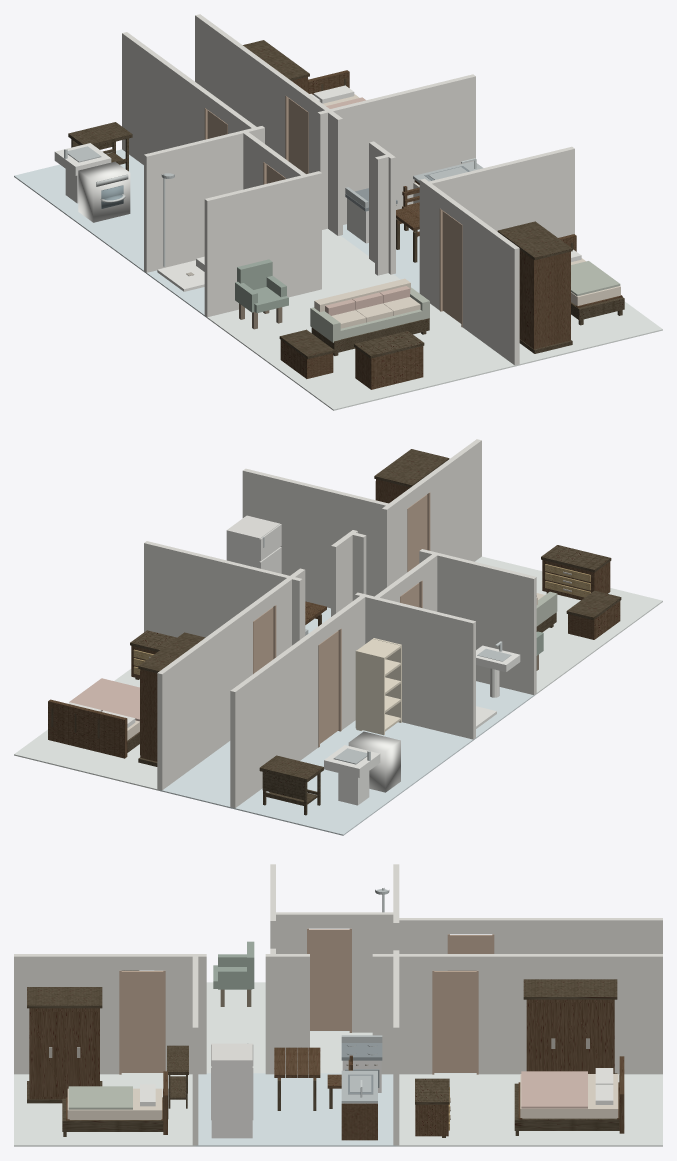
The picture shows the model from 3 angles, top to bottom: view 1: azimuth 30°, elevation 25°; view 2: azimuth 150°, elevation 25°; view 3: azimuth 270°, elevation 25°; orthographic projection.
Visible parts, largest first — view 1: H40_WALL_11, H40_WALL_06, H40_FLOOR_01_SALA_/_ENTRADA, H40_WALL_12, H40_WALL_02, H40_WALL_16, H40_WALL_00, H40_WALL_14, H40_FURN_01_wardrobe__06__corpo, H40_FLOOR_07_LAVANDERIA, H40_FLOOR_00_QUARTO_02, H40_FURN_18_washer__04__H08_FURN_16_washer_04 (+33 smaller); view 2: H40_WALL_14, H40_WALL_12, H40_WALL_02, H40_WALL_16, H40_WALL_11, H40_WALL_06, H40_FLOOR_07_LAVANDERIA, H40_WALL_00, H40_FLOOR_01_SALA_/_ENTRADA, H40_FLOOR_05_QUARTO_CASAL, H40_FURN_15_bed_double__07__cabeceira, H40_FLOOR_06_GALERIA_DE_SERVICO (+29 smaller); view 3: H40_WALL_14, H40_FLOOR_05_QUARTO_CASAL, H40_FLOOR_02_COZINHA_/_COPA, H40_WALL_00, H40_FLOOR_00_QUARTO_02, H40_WALL_16, H40_DOOR_00_LEAF, H40_DOOR_02_LEAF, H40_WALL_13, H40_DOOR_01_LEAF, H40_FURN_07_fridge__05__gabinete, H40_FLOOR_01_SALA_/_ENTRADA (+41 smaller).
Part boxes in pixels (x1=…): H40_WALL_11: x1=317, y1=74, x2=475, y2=229; H40_WALL_06: x1=204, y1=171, x2=321, y2=317; H40_FLOOR_01_SALA_/_ENTRADA: x1=206, y1=273, x2=517, y2=410; H40_WALL_12: x1=144, y1=126, x2=264, y2=272; H40_WALL_02: x1=426, y1=146, x2=574, y2=237; H40_WALL_16: x1=122, y1=32, x2=210, y2=164; H40_WALL_00: x1=462, y1=209, x2=519, y2=365; H40_WALL_14: x1=195, y1=14, x2=290, y2=158; H40_FURN_01_wardrobe__06__corpo: x1=519, y1=250, x2=570, y2=349; H40_FLOOR_07_LAVANDERIA: x1=14, y1=149, x2=145, y2=272; H40_FLOOR_00_QUARTO_02: x1=517, y1=301, x2=662, y2=365; H40_FURN_18_washer__04__H08_FURN_16_washer_04: x1=78, y1=161, x2=130, y2=222; H40_WALL_14: x1=157, y1=606, x2=253, y2=790; H40_WALL_12: x1=355, y1=592, x2=475, y2=739; H40_WALL_02: x1=242, y1=468, x2=390, y2=608; H40_WALL_16: x1=230, y1=630, x2=318, y2=808; H40_WALL_11: x1=144, y1=541, x2=302, y2=645; H40_WALL_06: x1=419, y1=549, x2=536, y2=694; H40_FLOOR_07_LAVANDERIA: x1=232, y1=720, x2=474, y2=835; H40_WALL_00: x1=424, y1=439, x2=481, y2=561; H40_FLOOR_01_SALA_/_ENTRADA: x1=475, y1=556, x2=662, y2=694; H40_FLOOR_05_QUARTO_CASAL: x1=14, y1=669, x2=159, y2=790; H40_FURN_15_bed_double__07__cabeceira: x1=48, y1=699, x2=127, y2=758; H40_FLOOR_06_GALERIA_DE_SERVICO: x1=159, y1=741, x2=232, y2=808; H40_WALL_14: x1=477, y1=954, x2=662, y2=1074; H40_FLOOR_05_QUARTO_CASAL: x1=396, y1=1073, x2=662, y2=1146; H40_FLOOR_02_COZINHA_/_COPA: x1=195, y1=1073, x2=396, y2=1146; H40_WALL_00: x1=14, y1=954, x2=120, y2=1074; H40_FLOOR_00_QUARTO_02: x1=14, y1=1073, x2=195, y2=1146; H40_WALL_16: x1=493, y1=918, x2=662, y2=953; H40_DOOR_00_LEAF: x1=121, y1=971, x2=163, y2=1072; H40_DOOR_02_LEAF: x1=434, y1=971, x2=476, y2=1072; H40_WALL_13: x1=396, y1=954, x2=433, y2=1074; H40_DOOR_01_LEAF: x1=309, y1=929, x2=349, y2=1030; H40_FURN_07_fridge__05__gabinete: x1=211, y1=1043, x2=252, y2=1138; H40_FLOOR_01_SALA_/_ENTRADA: x1=122, y1=982, x2=265, y2=1073.
Size of the model in its own units: 7.21 by 2.46 by 12.12.
22 materials, 3 textured.
